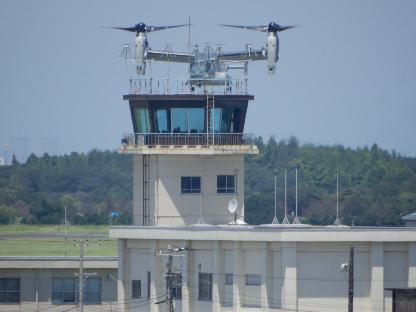Tornado: (97, 21, 303, 92)
